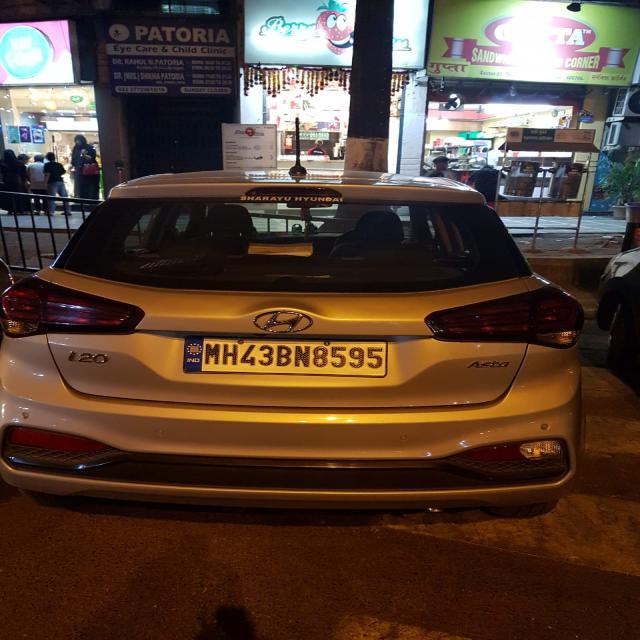Number-Plate: (178, 338, 394, 374)
